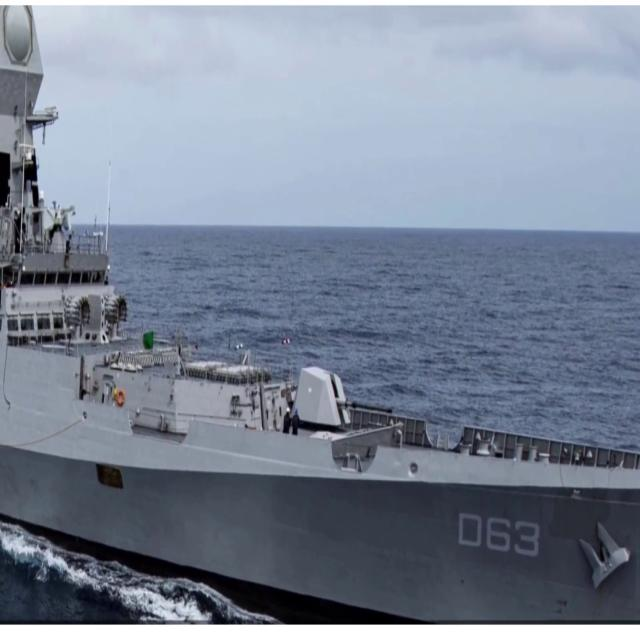OCR: (454, 507, 543, 568)
